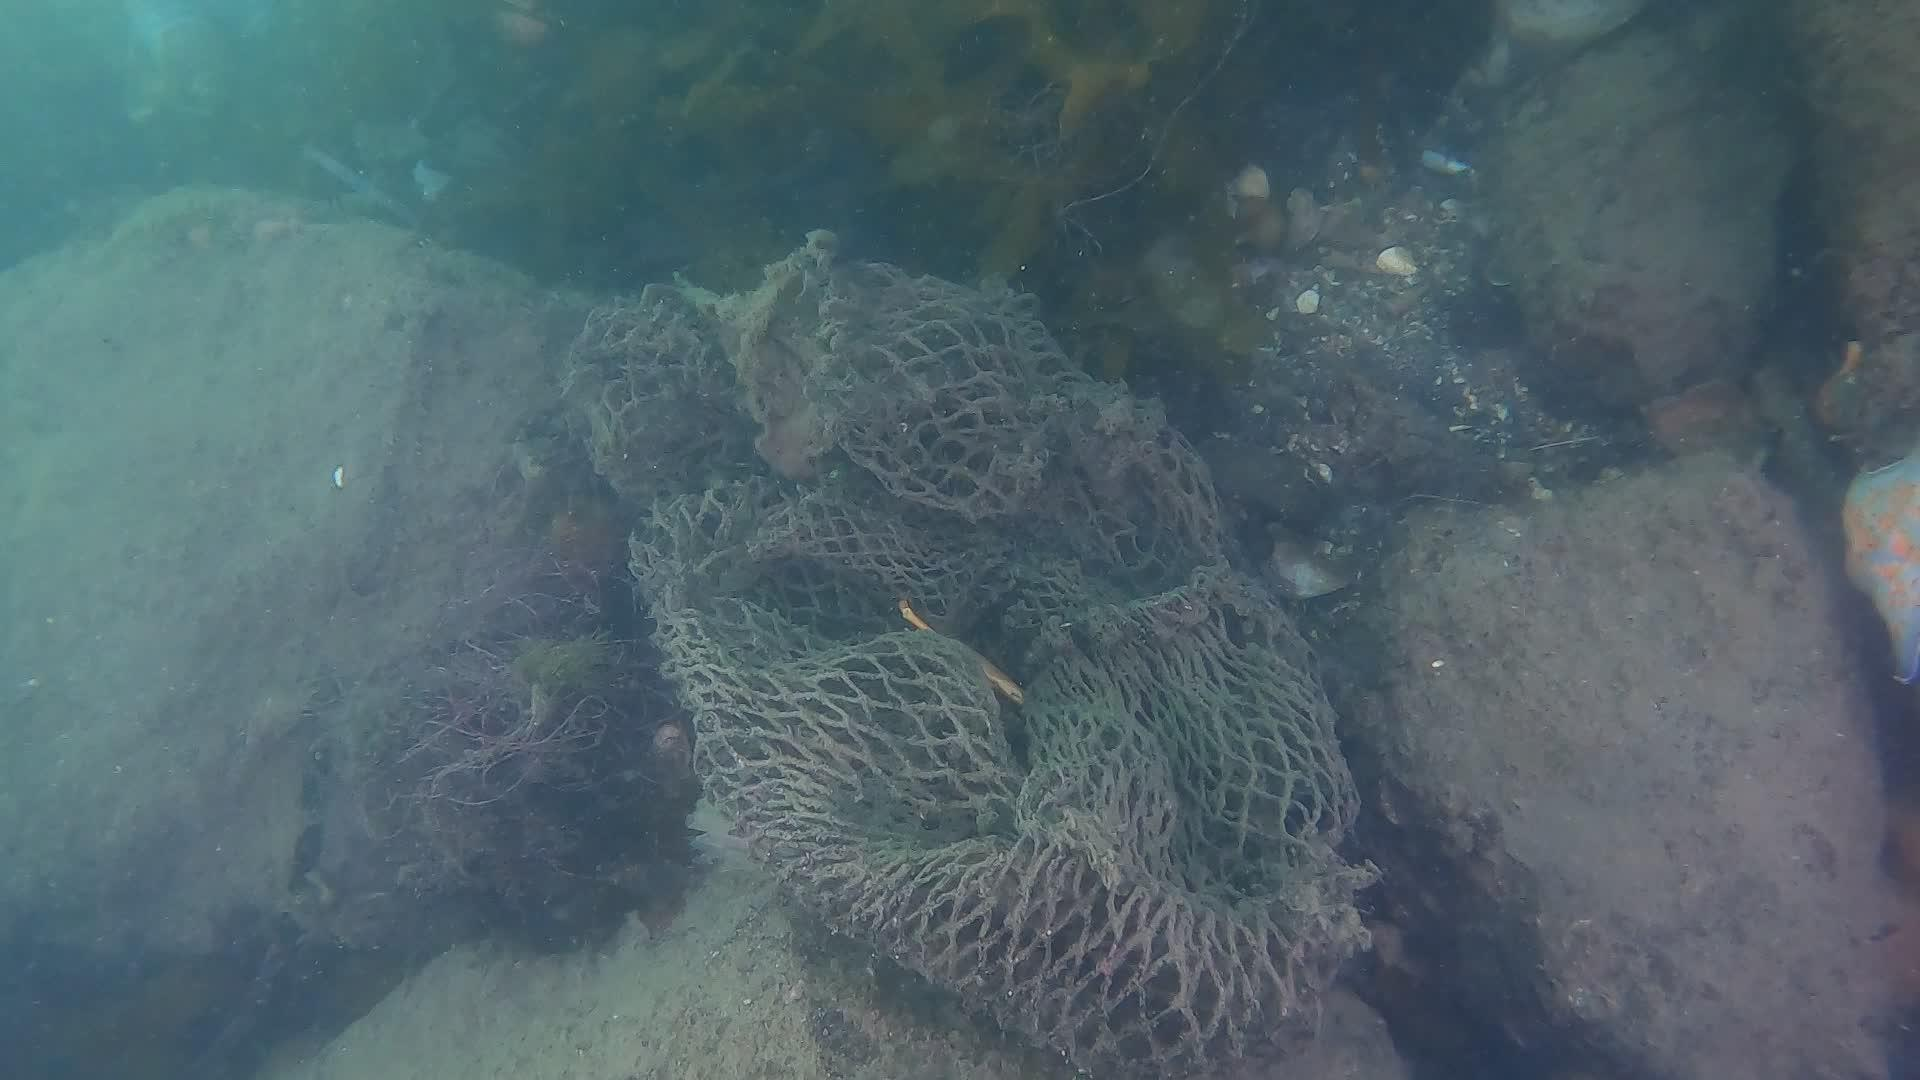fish net: (576, 280, 1367, 1080)
